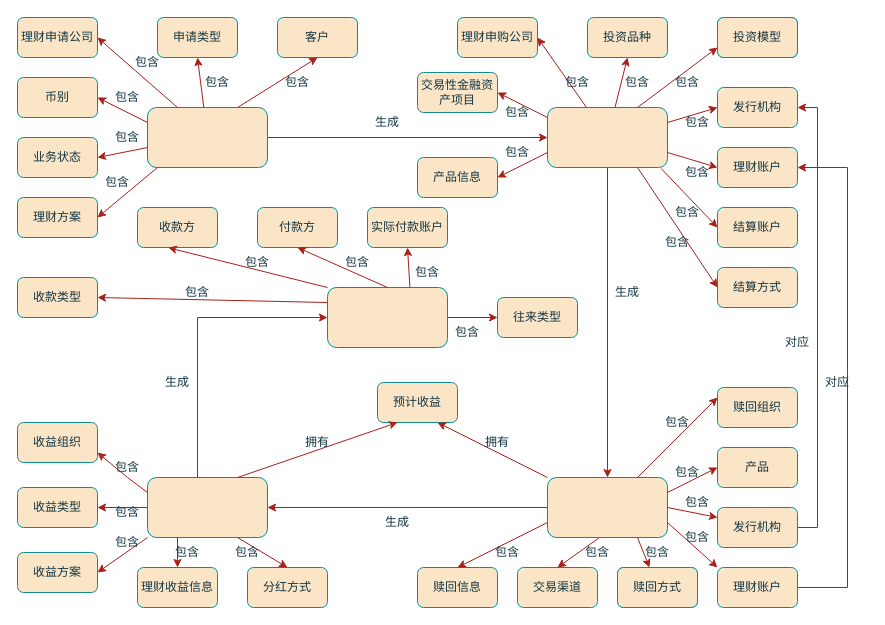
Image size: 885x625. Some labels were removed from this diagram. The box of each missing label's shape, as (x1, y1, x2, y2) in pixels:
收款处理: (326, 286, 448, 348)
理财收益: (146, 476, 268, 538)
理财申请: (146, 106, 268, 168)
理财申购: (546, 106, 668, 168)
理财赎回: (546, 476, 668, 538)
